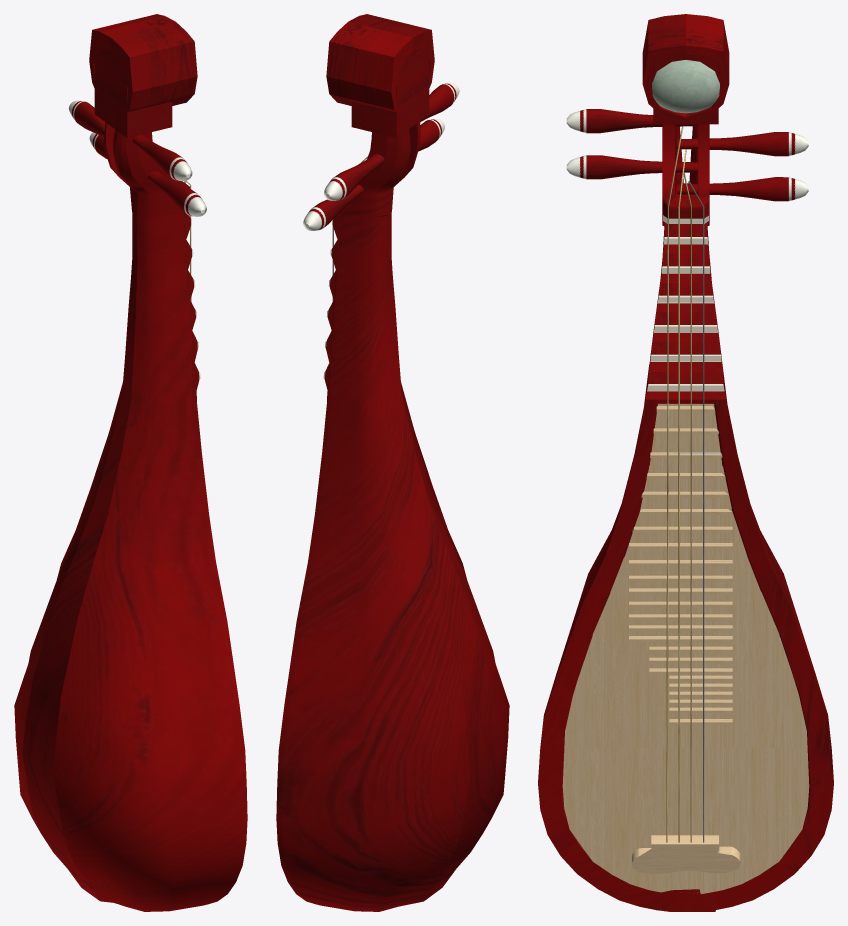
The model's file is pipa_with_color.fbx.
3 renders of one model, left to right at view 1: azimuth 30°, elevation 25°; view 2: azimuth 150°, elevation 25°; view 3: azimuth 270°, elevation 25°, orthographic.
Parts seen in each view (by area): view 1: pCube1, pPipe1, pCube31, pCylinder4, pCylinder13, pCylinder14; view 2: pCube1, pPipe1, pCube31, pCylinder14, pCylinder15, pCylinder4, pCylinder13; view 3: pCube2, pCube1, pPipe1, polySurface1, pSphere1, pCylinder14, pCylinder13, pCylinder15, pCylinder4, pCube29, pCube32, pCylinder5 (+13 smaller).
Part boxes in pixels (x1,y1,x2,y2): pCube1: (14,122,247,911); pPipe1: (89,14,197,117); pCube31: (94,47,172,137); pCylinder4: (132,135,192,181); pCylinder13: (147,171,206,216); pCylinder14: (68,100,104,137); pCube1: (276,121,509,911); pPipe1: (326,14,434,118); pCube31: (351,34,429,137); pCylinder14: (324,154,384,200); pCylinder15: (303,184,363,230); pCylinder4: (420,83,459,121); pCylinder13: (418,119,444,151); pCube2: (562,404,809,894); pCube1: (538,124,833,911); pPipe1: (642,14,729,123); polySurface1: (632,835,740,873); pSphere1: (652,60,719,113); pCylinder14: (677,132,808,156); pCylinder13: (566,155,697,179); pCylinder15: (677,177,808,201); pCylinder4: (566,109,697,133); pCube29: (644,364,725,404); pCube32: (648,340,723,375); pCylinder5: (666,126,683,842).
Bounding box in the file's own units: 2.18 × 12.23 × 3.78.
